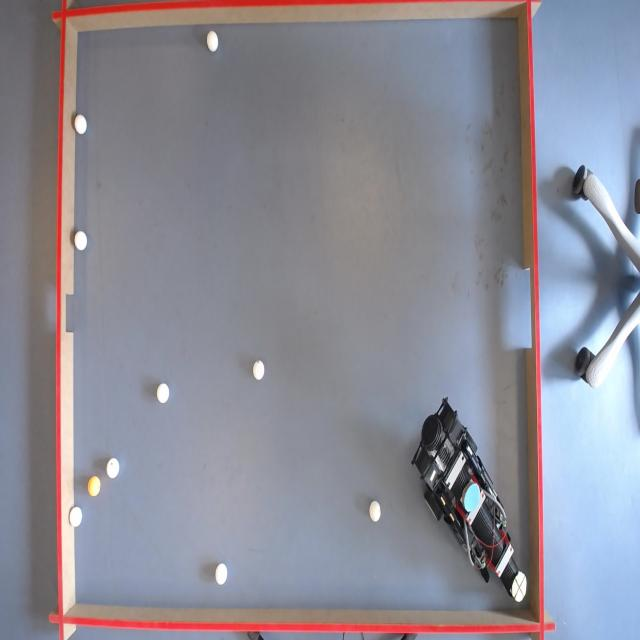orange: (89, 477, 102, 499)
robot: (412, 394, 534, 611)
robot-front: (513, 573, 528, 604)
robot-rear: (464, 482, 481, 512)
white: (69, 505, 83, 528), (215, 562, 228, 586), (74, 114, 88, 136), (368, 500, 381, 522), (207, 30, 220, 52), (106, 458, 119, 480), (74, 232, 88, 252), (158, 383, 171, 404), (252, 360, 265, 381)
